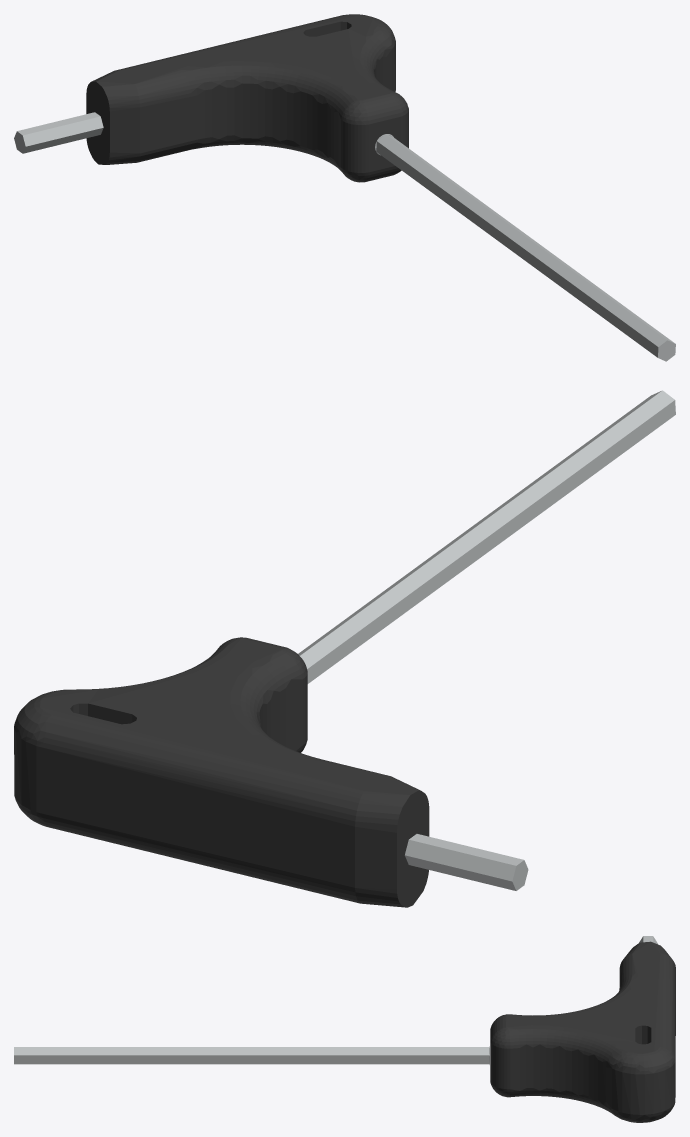
Rendered from Allen Key - V3.fbx.
3 renders of one model, top to bottom at view 1: azimuth 30°, elevation 25°; view 2: azimuth 150°, elevation 25°; view 3: azimuth 270°, elevation 25°, orthographic. The views are drawn at different scales.
Visible parts, largest first — view 1: Allen Key - V3b, Allen Key - V3; view 2: Allen Key - V3b, Allen Key - V3; view 3: Allen Key - V3b, Allen Key - V3.
Part boxes in pixels (x1,y1,x2,y2): Allen Key - V3b: (86,14,408,182); Allen Key - V3: (14,112,675,361); Allen Key - V3b: (14,637,429,907); Allen Key - V3: (298,390,675,890); Allen Key - V3b: (490,941,675,1122); Allen Key - V3: (14,936,657,1064).
Bounding box in the file's own units: 22.79 × 4.86 × 42.24.
1 material, 1 textured.
